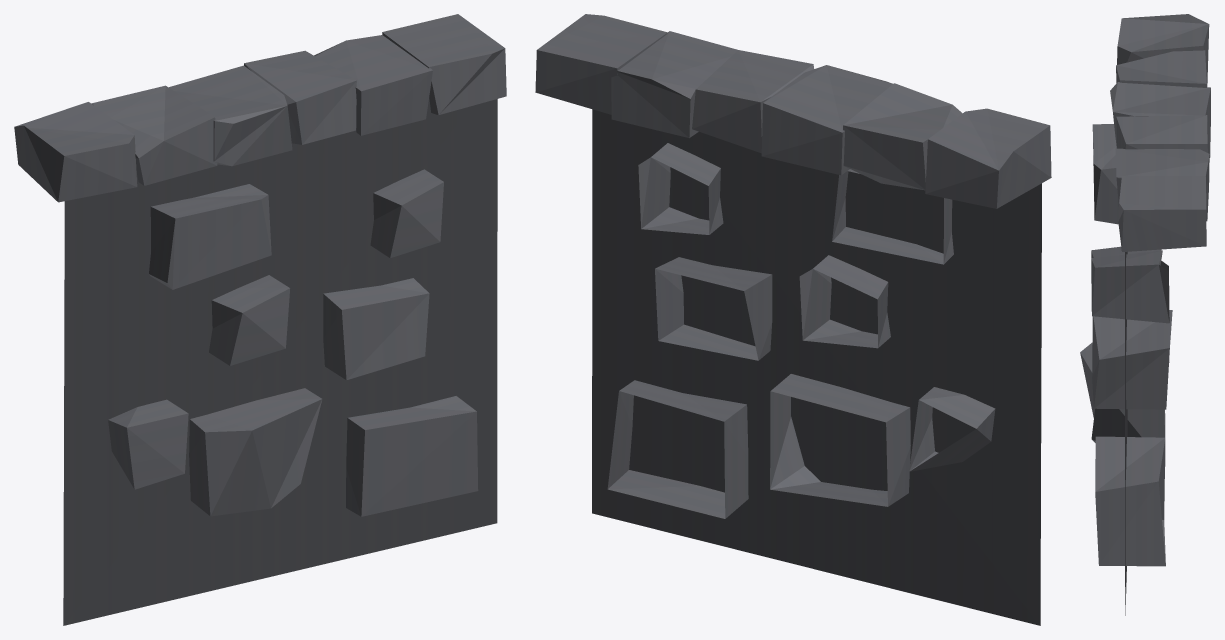
Rendered from Wall_2A_LOD1.fbx.
3 views of the same model, side by side, from view 1: azimuth 30°, elevation 25°; view 2: azimuth 150°, elevation 25°; view 3: azimuth 270°, elevation 25° (orthographic). The views are drawn at different scales.
Visible parts, largest first — view 1: polySurface10150; view 2: polySurface10150; view 3: polySurface10150.
Boxes of the visible parts, box(x1,y1,x2,y2) form: polySurface10150: box(14, 14, 506, 625); polySurface10150: box(535, 14, 1051, 625); polySurface10150: box(1080, 14, 1210, 615).
Bounding box in the file's own units: 415 × 424 × 119.
